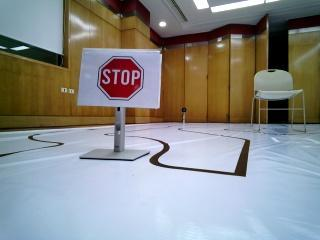stop: (82, 47, 160, 107)
